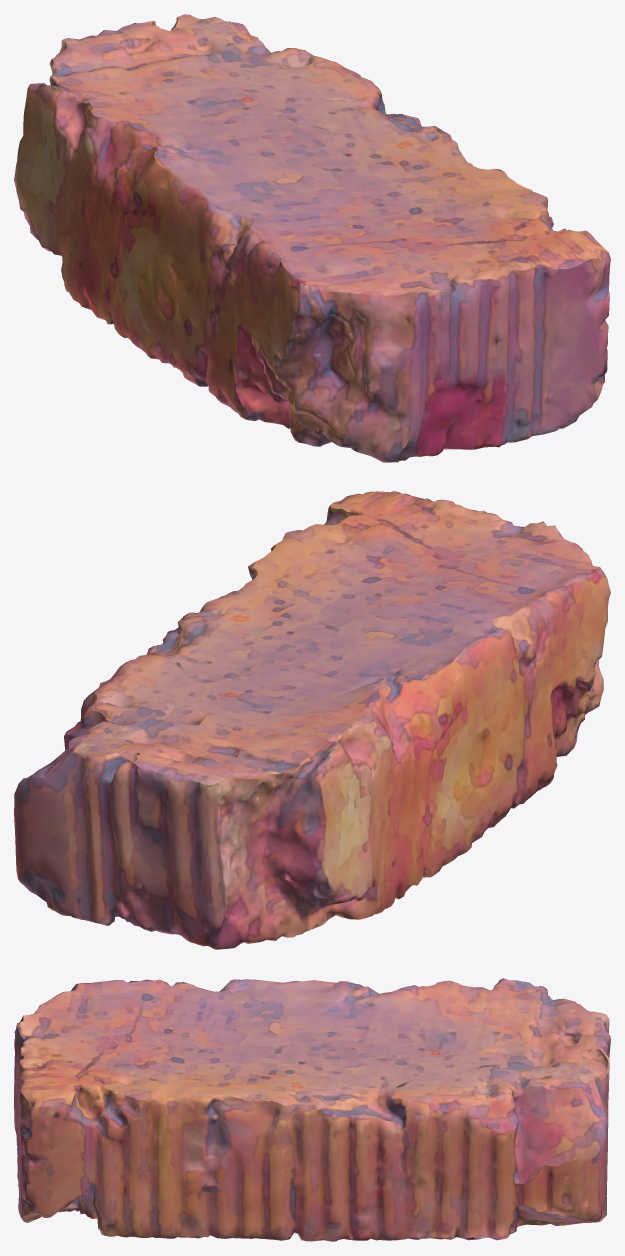
Rendered from brick.glb.
3 renders of one model, top to bottom at view 1: azimuth 30°, elevation 25°; view 2: azimuth 150°, elevation 25°; view 3: azimuth 270°, elevation 25°, orthographic. The views are drawn at different scales.
Visible parts, largest first — view 1: Brick; view 2: Brick; view 3: Brick.
Part boxes in pixels (bbox=[...]): Brick: bbox=[14, 14, 610, 462]; Brick: bbox=[14, 491, 610, 949]; Brick: bbox=[14, 978, 610, 1241].
Bounding box in the file's own units: 0.1284 × 0.0779 × 0.2673.
1 material, 1 textured.
